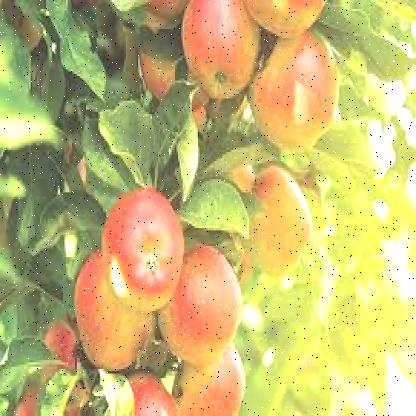apple: (72, 250, 152, 380), (261, 38, 347, 152), (96, 194, 180, 309), (166, 248, 246, 362), (242, 168, 314, 276), (178, 6, 255, 96), (164, 340, 249, 414)
